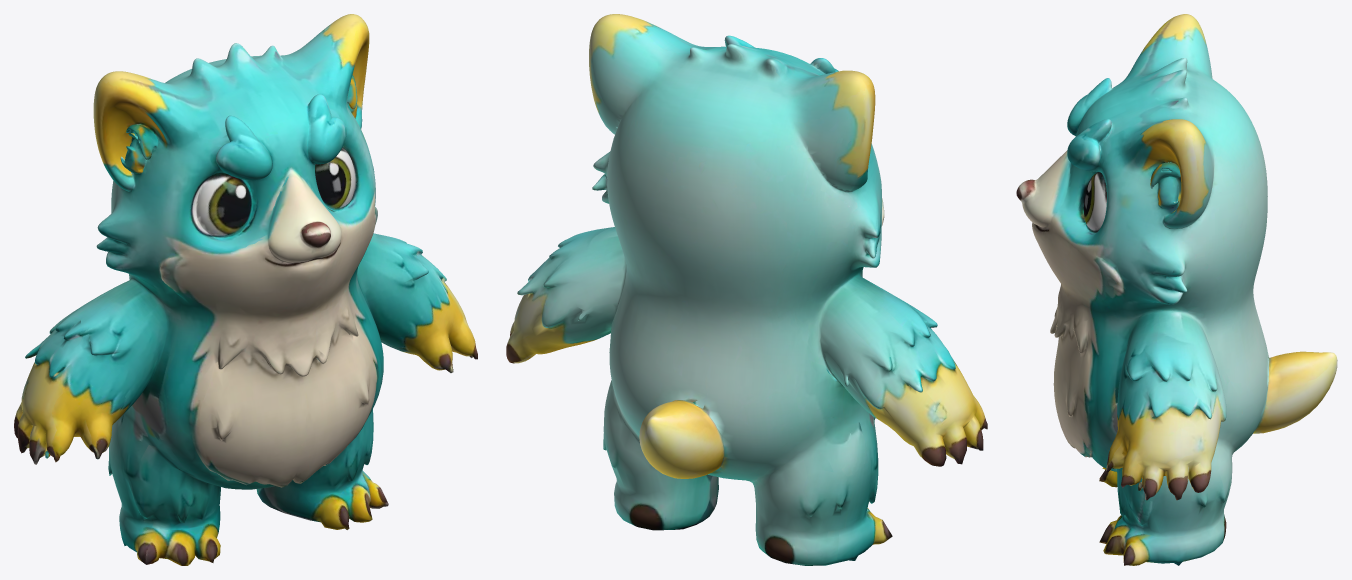
The model's file is 8u67aapj (1) (1).glb.
3 views of the same model, side by side, from view 1: azimuth 30°, elevation 25°; view 2: azimuth 150°, elevation 25°; view 3: azimuth 270°, elevation 25° (orthographic). The views are drawn at different scales.
Parts seen in each view (by area): view 1: Creature; view 2: Creature; view 3: Creature.
Boxes of the visible parts, box(x1,y1,x2,y2) form: Creature: box(14, 14, 477, 565); Creature: box(506, 14, 987, 565); Creature: box(1016, 14, 1337, 565).
Size of the model in its own units: 0.2433 by 0.25 by 0.1629.
Materials: 1 (1 with a texture image).
